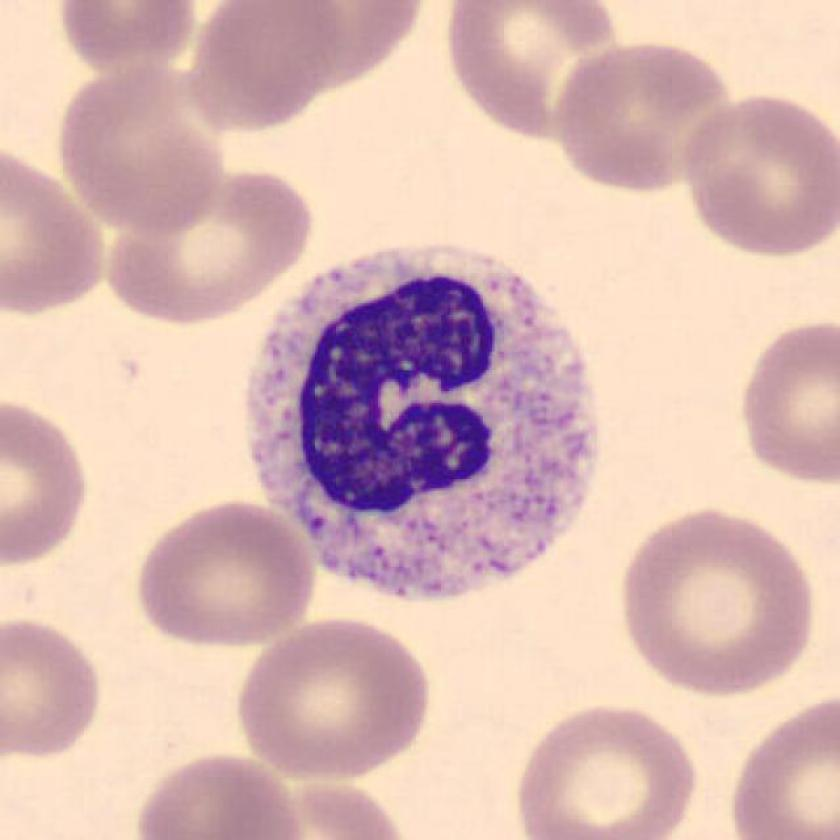neutrophil: (246, 244, 601, 603)
